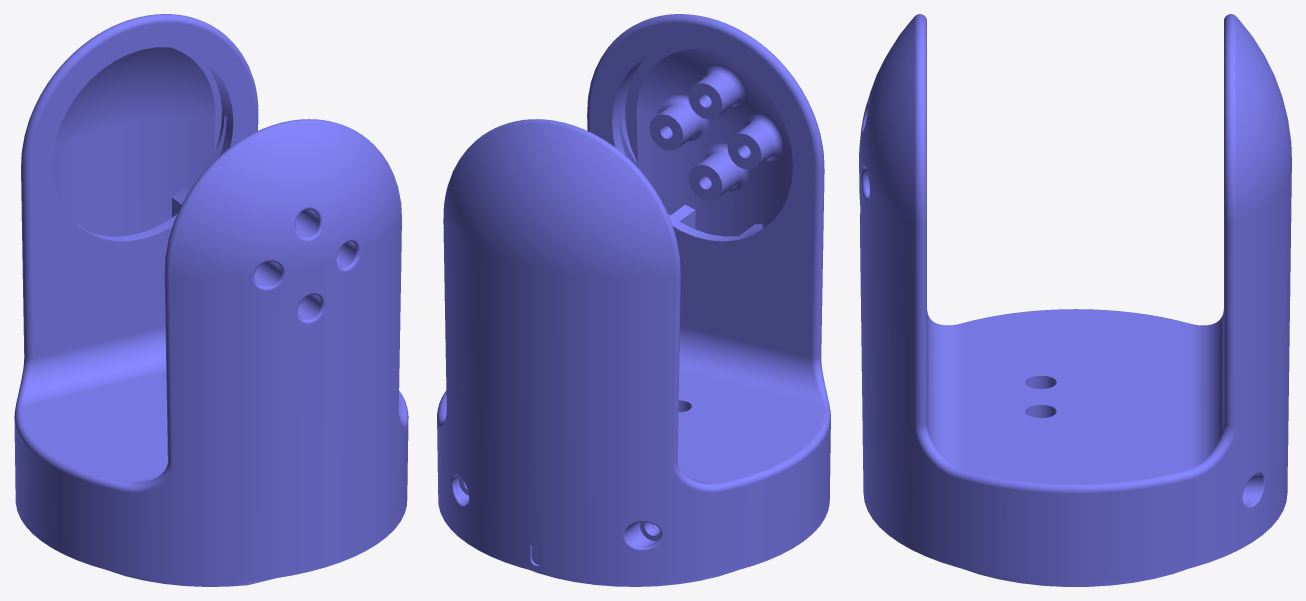
The picture shows the model from 3 angles, left to right: view 1: azimuth 30°, elevation 25°; view 2: azimuth 150°, elevation 25°; view 3: azimuth 270°, elevation 25°; orthographic projection. The views are drawn at different scales.
Parts seen in each view (by area): view 1: Brep (×2); view 2: Brep (×2); view 3: Brep (×2).
Part boxes in pixels (x1,y1,x2,y2): Brep (×2): [14, 14, 408, 586]; Brep (×2): [437, 14, 830, 586]; Brep (×2): [859, 14, 1291, 586].
Bounding box in the file's own units: 60.34 × 61.26 × 76.1.
